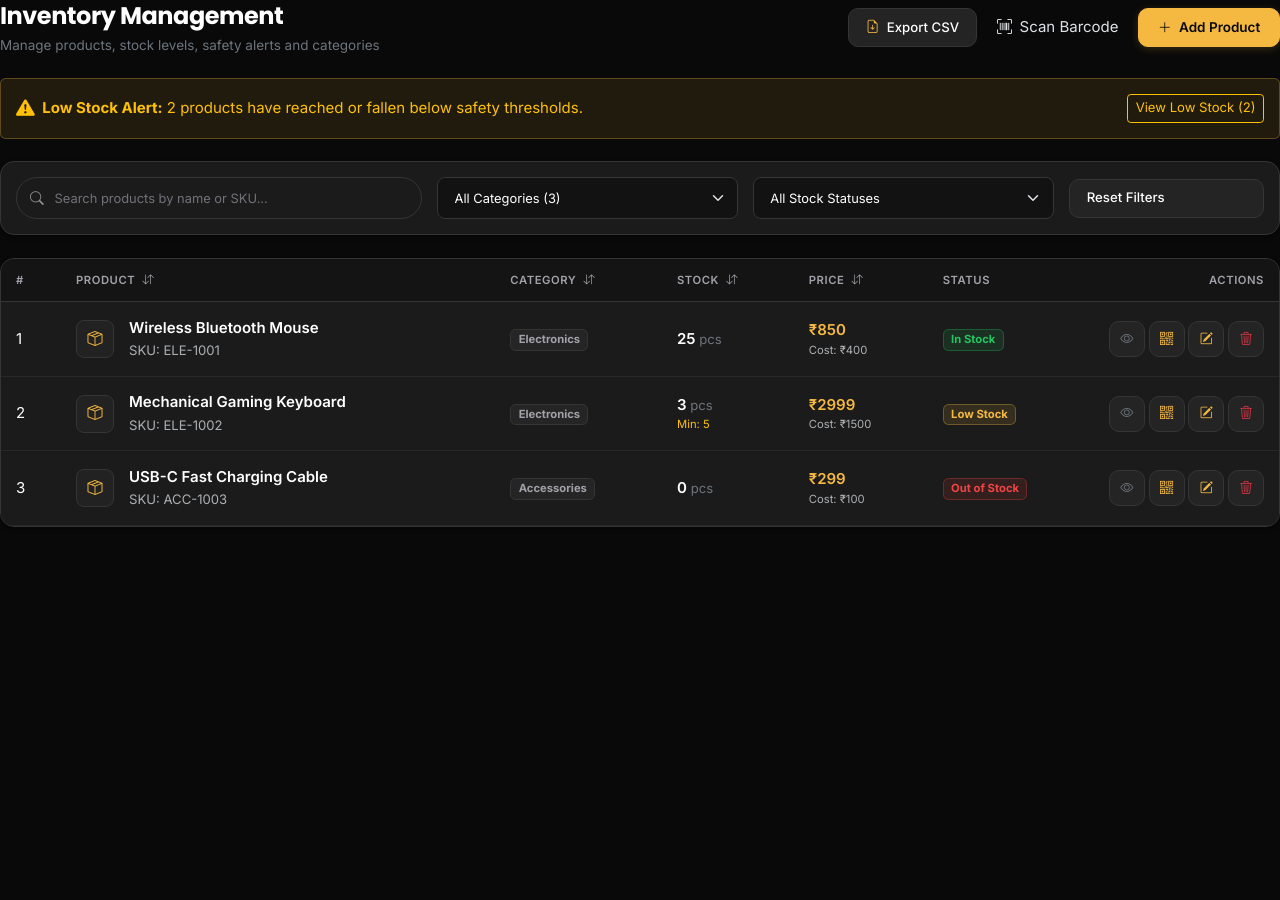
Test: Integration — Inventory Management Catalog & CRUD › opens Add Product modal when button is clicked
The width and height of the screenshot is (1280, 900).
Click the button "Add Product" at (1209, 28), box [1138, 8, 1279, 47]
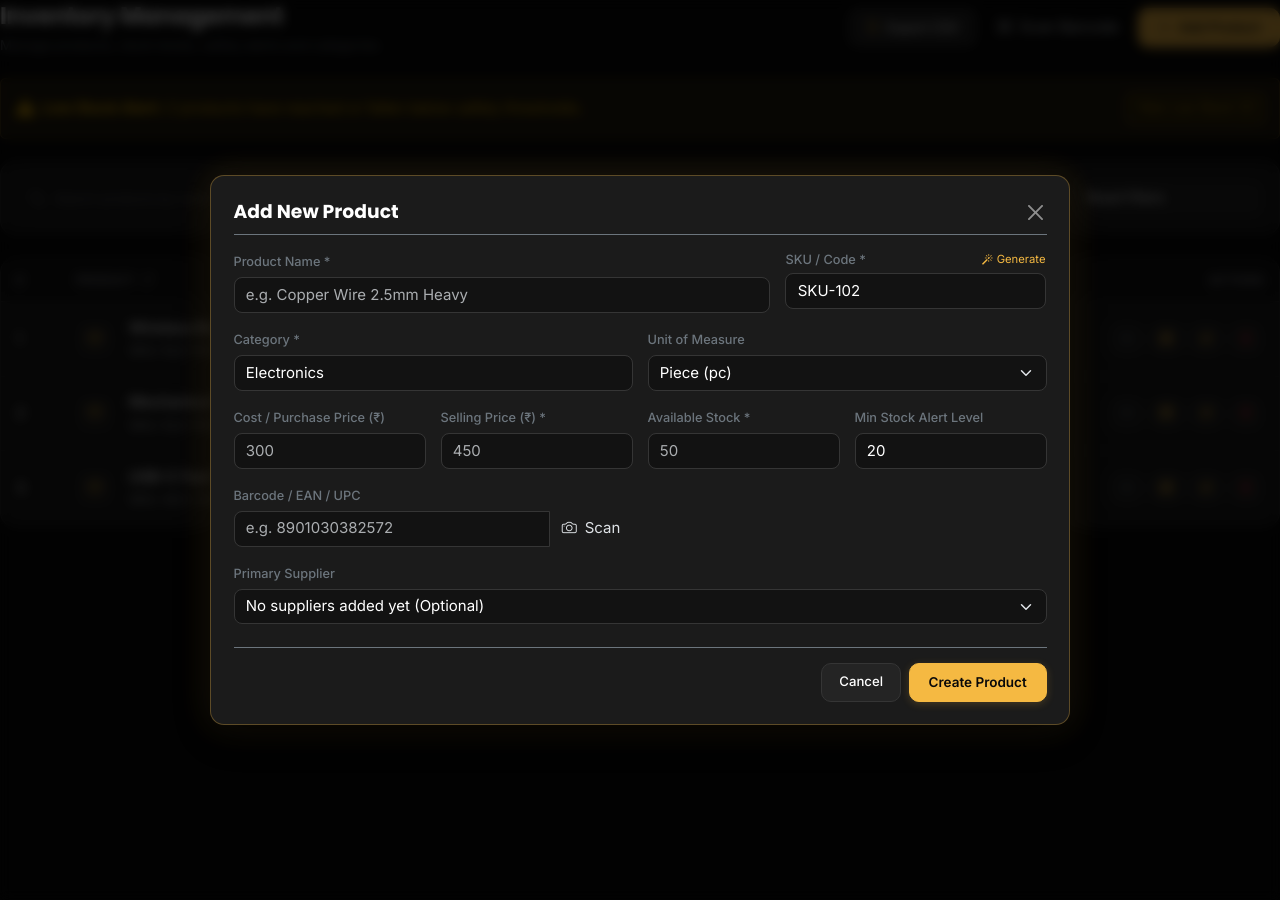
Now the heading "Add New Product" is shown, box [234, 198, 399, 226]
Now the field with placeholder "e.g. Copper Wire 2.5mm Heavy" is shown, box [234, 277, 770, 313]
